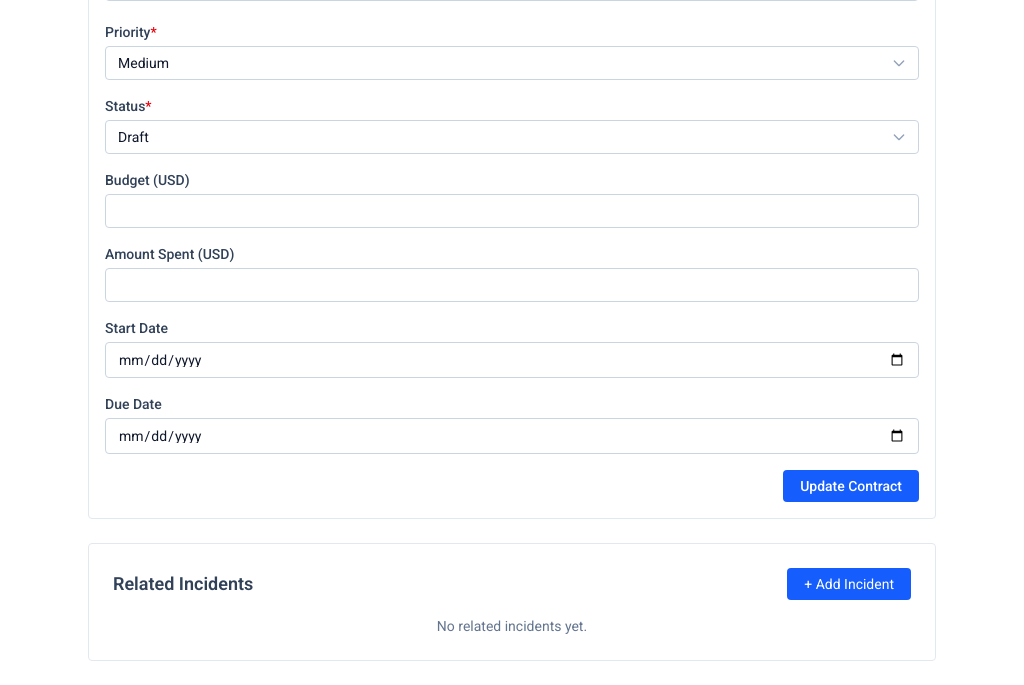
Scenario: EditContractPage › shows validation feedback when creating an invalid related incident
(page scrolled)
Click the button "+ Add Incident" at x=849, y=584, box [787,568,911,600]
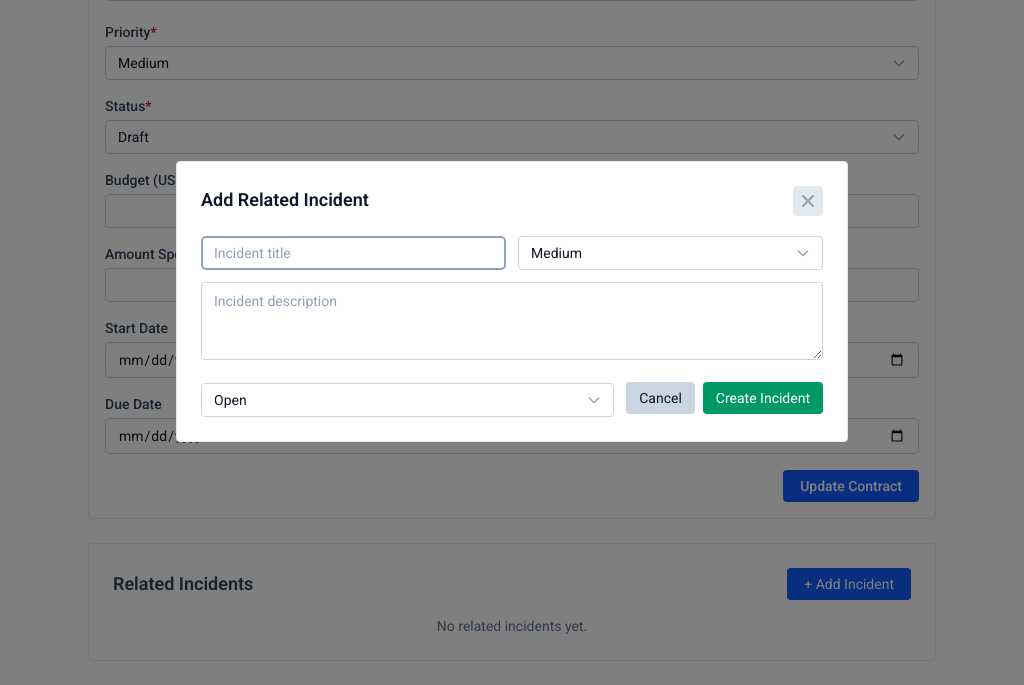
Click the button "Create Incident" at x=763, y=398, box [703,382,823,414]
(page scrolled)
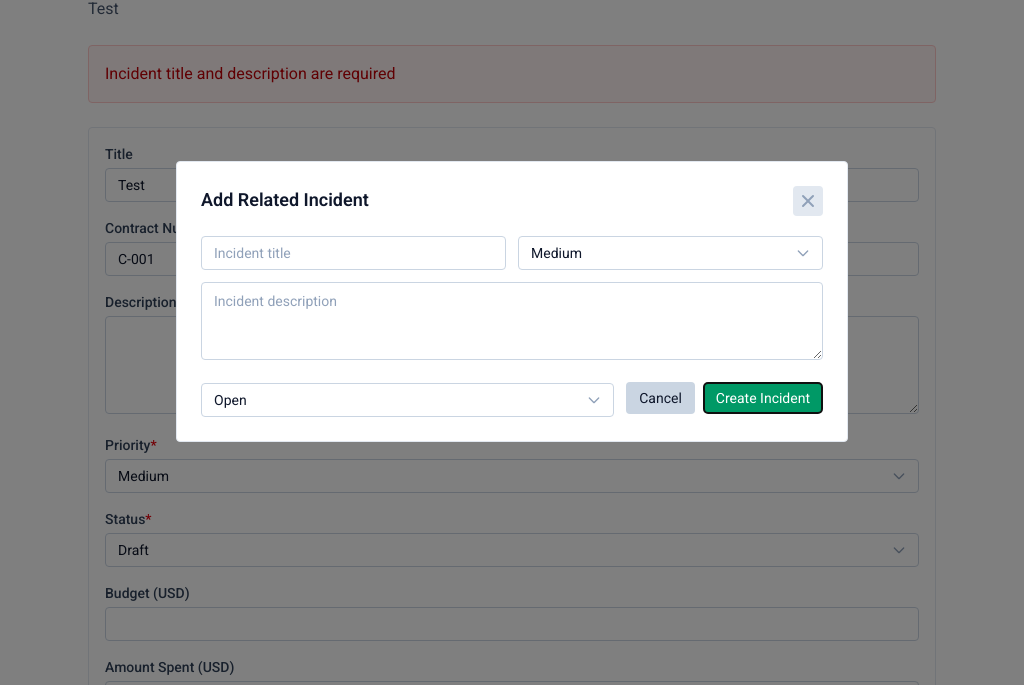
Expected: the text "Incident title and description are required" is shown, [88,45,936,103]
